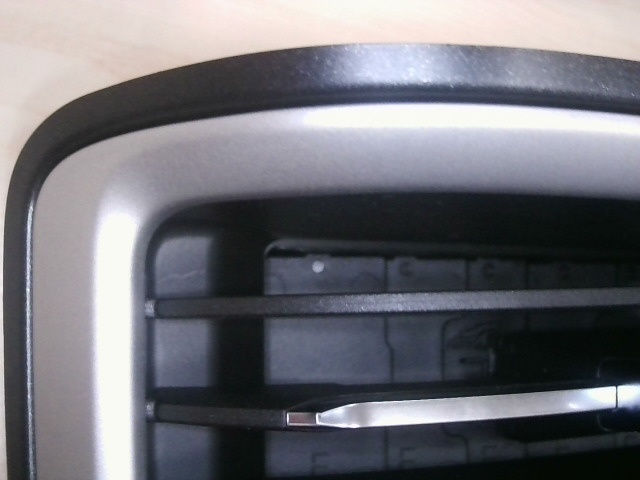NG: (431, 32, 498, 96)
